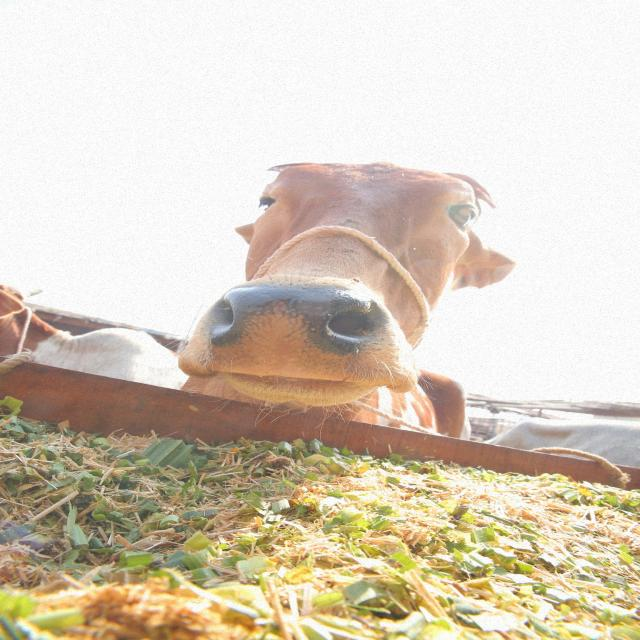muzzles: (219, 283, 382, 386)
